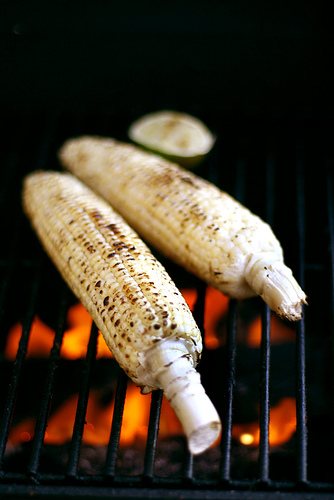corn: (17, 167, 221, 452), (55, 131, 310, 323), (131, 115, 213, 155)
